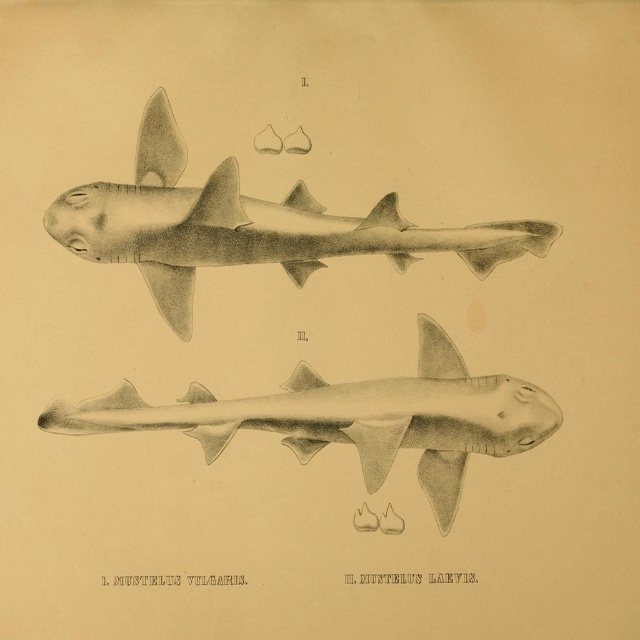Shark: (48, 104, 563, 329), (37, 311, 560, 532)
